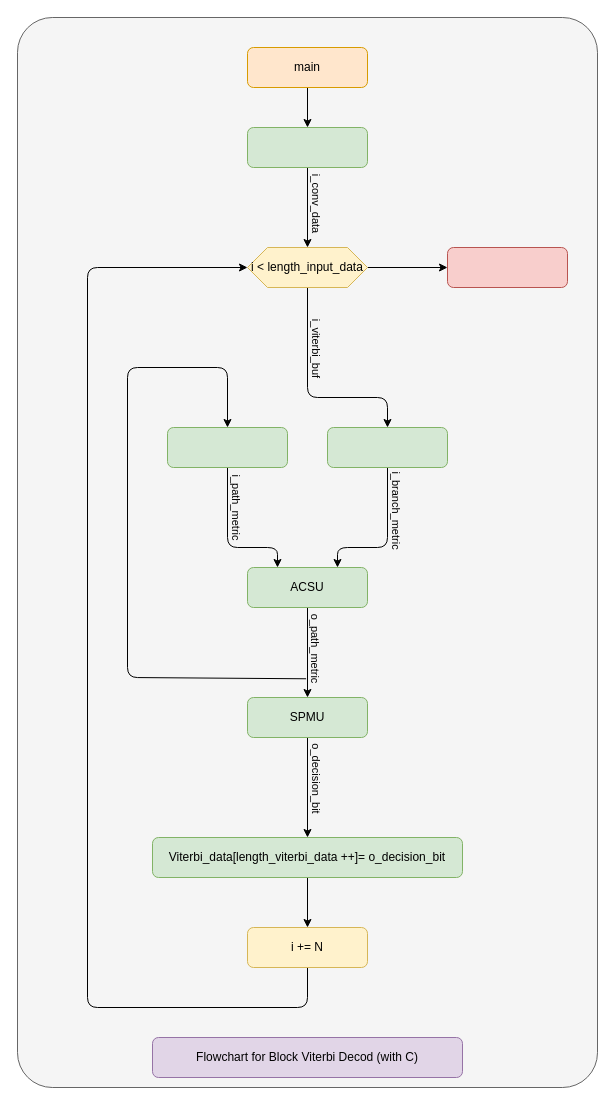
Some shapes in this 615 by 1105 pixel diagram are drawn without their labels. Here are the shapes that lost their labels. From the top down, the box of each, then its label:
(246, 126, 368, 168): Input_data
(446, 246, 568, 288): Viterbi_data
(166, 426, 288, 468): PMU
(326, 426, 448, 468): BMU
